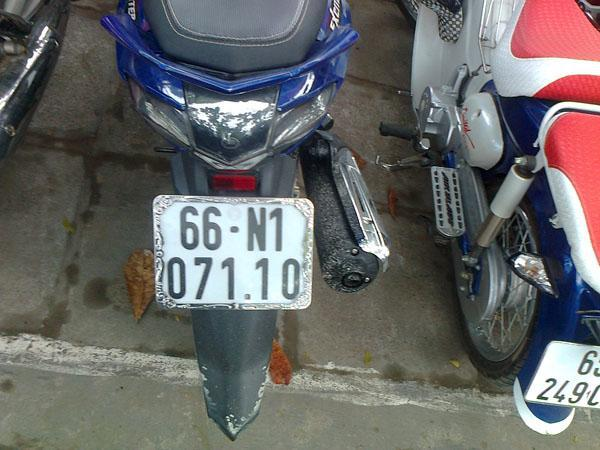License_Plate: (159, 194, 310, 310)
